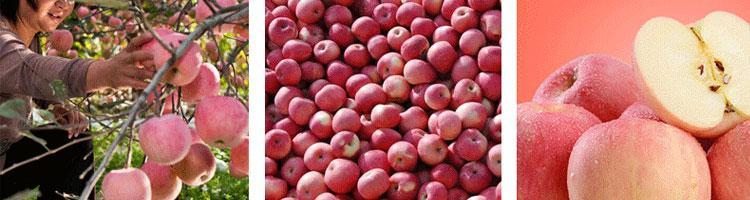apple: (556, 110, 714, 197), (512, 102, 598, 199), (47, 29, 75, 55)
